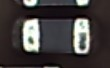COMP: (10, 14, 100, 59)
GAP: (22, 1, 90, 33)
